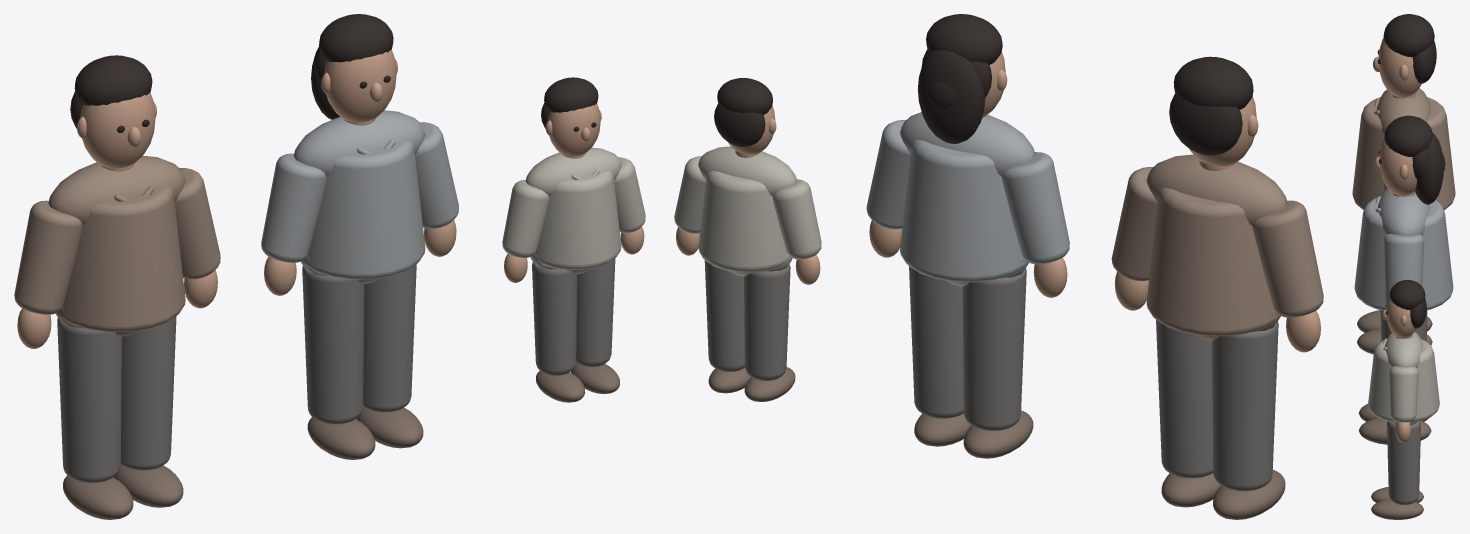
File: nhan-vat-di-chua-v2.glb
3 views of the same model, side by side, from view 1: azimuth 30°, elevation 25°; view 2: azimuth 150°, elevation 25°; view 3: azimuth 270°, elevation 25° (orthographic). The views are drawn at different scales.
Parts seen in each view (by area): view 1: Nam_than_ao, Nu_than_ao, Nam_ong_quan, Nu_ong_quan, Nam_ong_quan.001, Nu_ong_quan.001, Tre_em_than_ao, Nam_tay_ao, Nu_tay_ao, Nam_vai, Tre_em_ong_quan, Nu_vai (+22 smaller); view 2: Nam_than_ao, Nu_than_ao, Nam_ong_quan, Nu_ong_quan, Nam_ong_quan.001, Nu_ong_quan.001, Tre_em_than_ao, Nam_tay_ao, Nu_tay_ao, Nam_vai, Tre_em_ong_quan, Nu_toc_dai (+23 smaller); view 3: Nu_than_ao, Nam_than_ao, Tre_em_than_ao, Tre_em_ong_quan.001, Nu_tay_ao.001, Nu_vai, Nam_toc, Nu_toc, Tre_em_tay_ao.001, Nam_dau, Nam_vai, Nu_dau (+15 smaller).
Boxes of the visible parts, box(x1,y1,x2,y2) form: Nam_than_ao: box(55, 187, 185, 332); Nu_than_ao: box(300, 141, 425, 279); Nam_ong_quan: box(57, 318, 121, 482); Nu_ong_quan: box(302, 266, 364, 424); Nam_ong_quan.001: box(120, 316, 176, 470); Nu_ong_quan.001: box(363, 264, 416, 412); Tre_em_than_ao: box(535, 171, 621, 270); Nam_tay_ao: box(14, 200, 82, 314); Nu_tay_ao: box(261, 153, 326, 262); Nam_vai: box(48, 155, 185, 224); Tre_em_ong_quan: box(532, 262, 577, 375); Nu_vai: box(293, 110, 425, 176); Nam_than_ao: box(1146, 187, 1280, 336); Nu_than_ao: box(900, 139, 1028, 282); Nam_ong_quan: box(1212, 321, 1278, 491); Nu_ong_quan: box(962, 268, 1026, 430); Nam_ong_quan.001: box(1156, 320, 1213, 478); Nu_ong_quan.001: box(909, 266, 963, 418); Tre_em_than_ao: box(698, 170, 787, 272); Nam_tay_ao: box(1252, 200, 1323, 317); Nu_tay_ao: box(1001, 152, 1069, 264); Nam_vai: box(1146, 154, 1287, 225); Tre_em_ong_quan: box(744, 264, 790, 380); Nu_toc_dai: box(917, 50, 985, 143); Nu_than_ao: box(1354, 195, 1453, 310); Nam_than_ao: box(1352, 97, 1455, 210); Tre_em_than_ao: box(1368, 339, 1439, 422); Tre_em_ong_quan.001: box(1387, 421, 1420, 504); Nu_tay_ao.001: box(1383, 234, 1424, 304); Nu_vai: box(1378, 188, 1429, 235); Nam_toc: box(1383, 14, 1434, 57); Nu_toc: box(1384, 115, 1432, 157); Tre_em_tay_ao.001: box(1389, 366, 1418, 422); Nam_dau: box(1378, 38, 1421, 97); Nam_vai: box(1377, 88, 1430, 137); Nu_dau: box(1379, 138, 1416, 195).
Size of what is drawn, in the model's own units: 2.63 by 1.76 by 0.5029.
